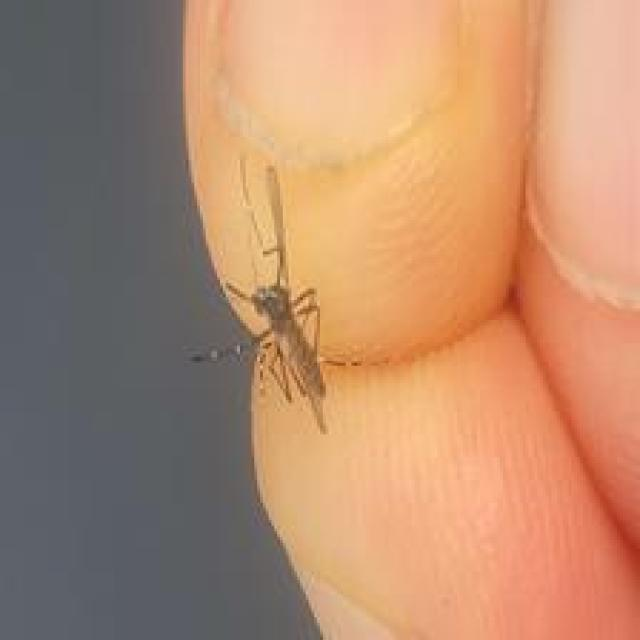Aedes albopictus: (186, 154, 331, 434)
